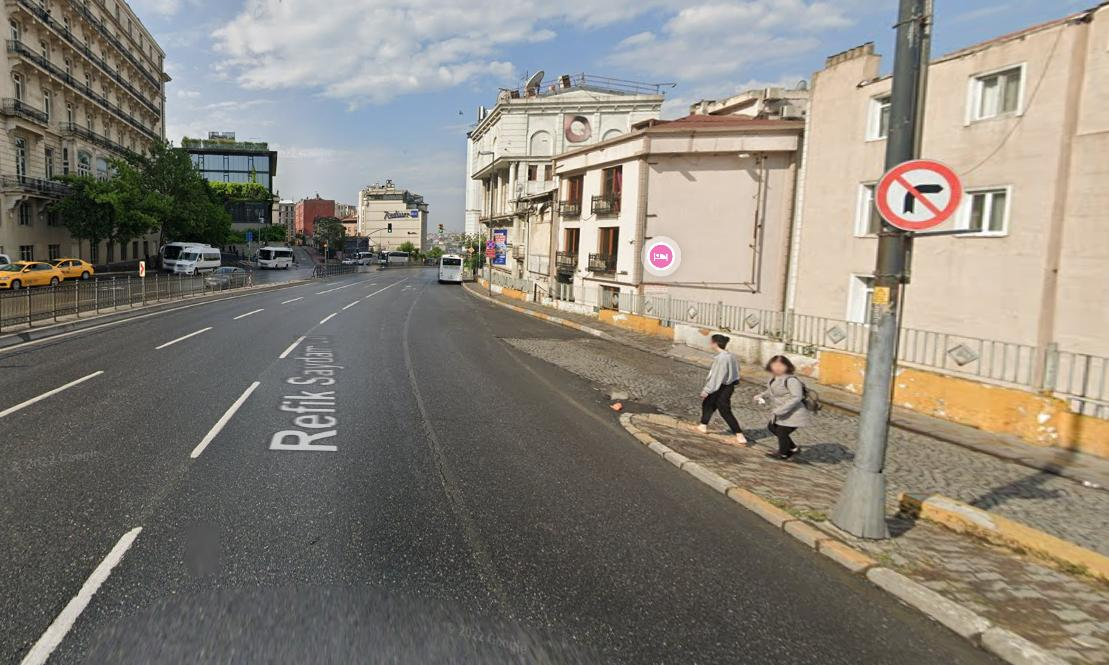rightturnsareforbidden: (879, 166, 957, 232)
